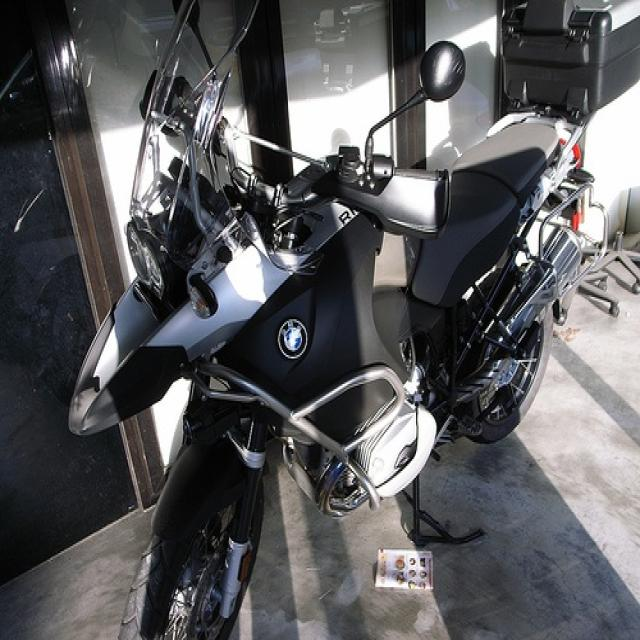motorbike: (69, 2, 608, 638)
